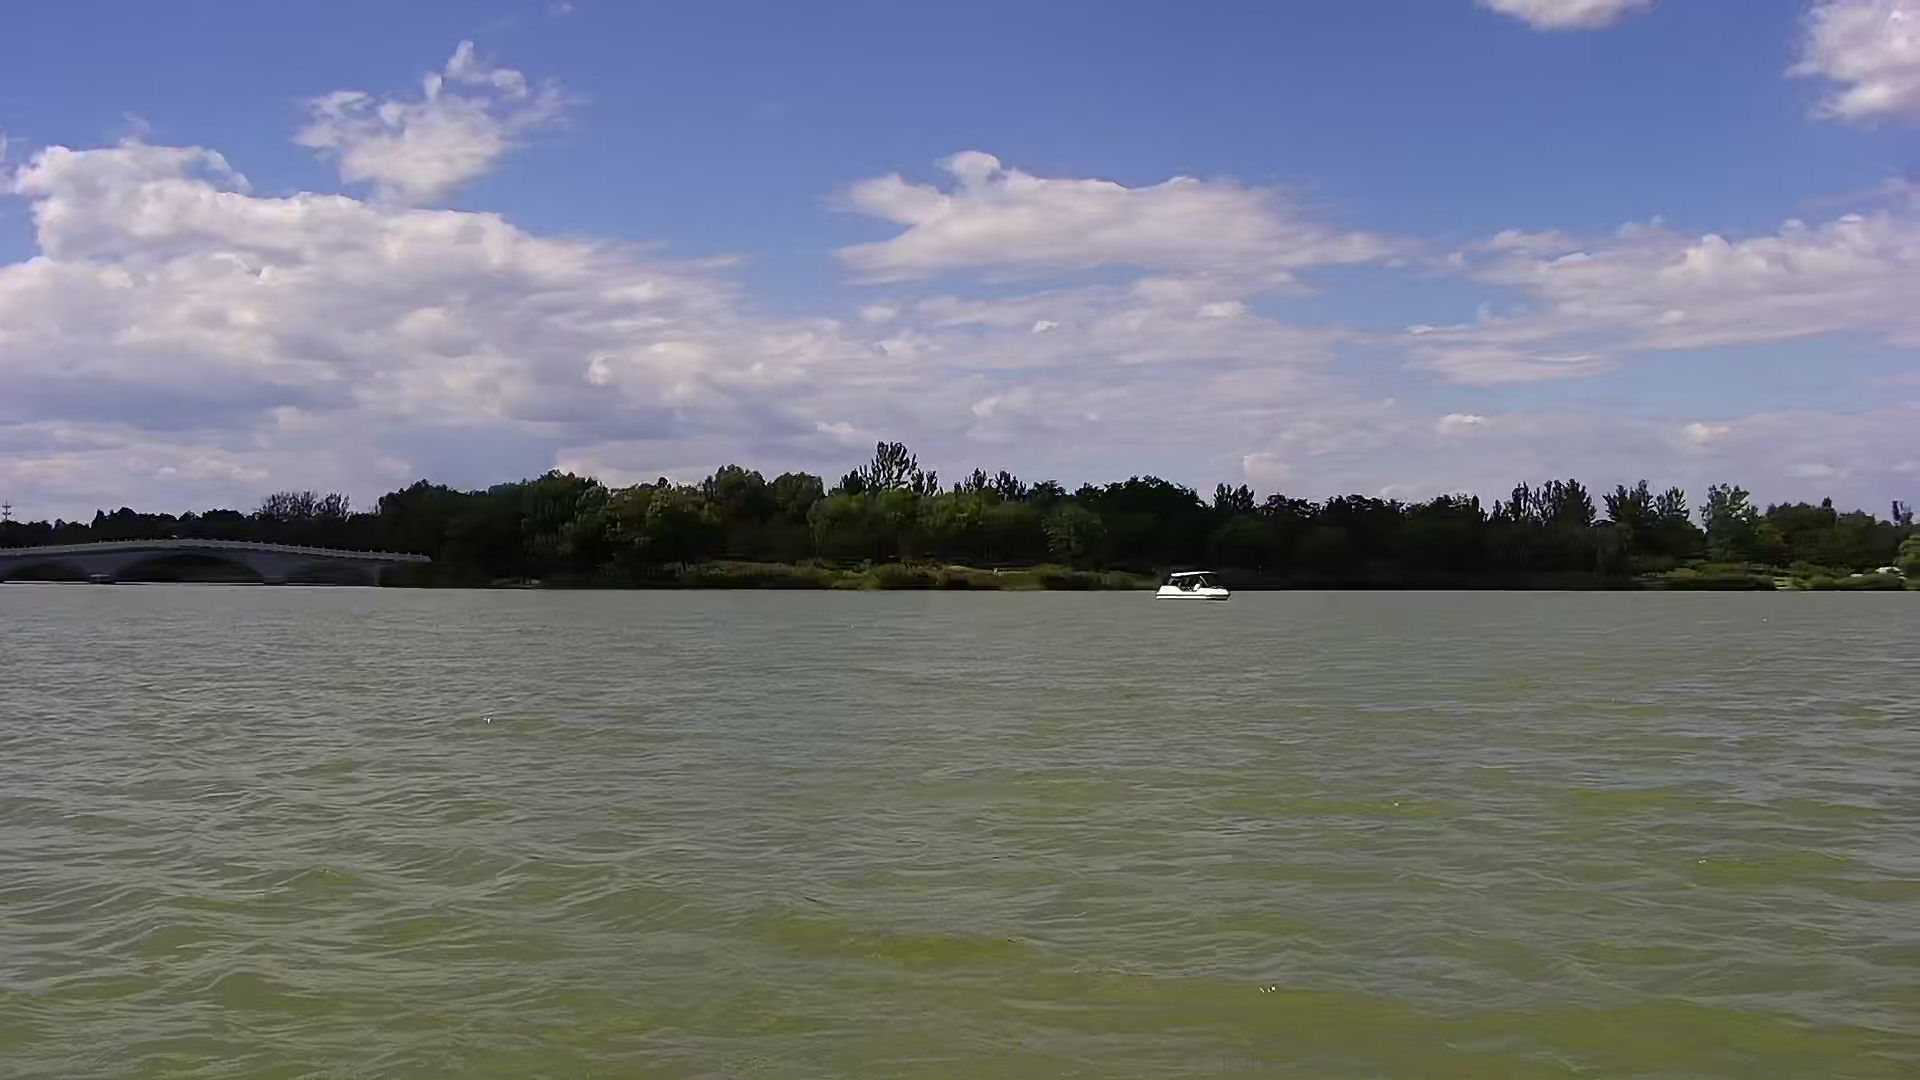boat: (1154, 559, 1237, 611)
bridge: (1, 541, 426, 591)
